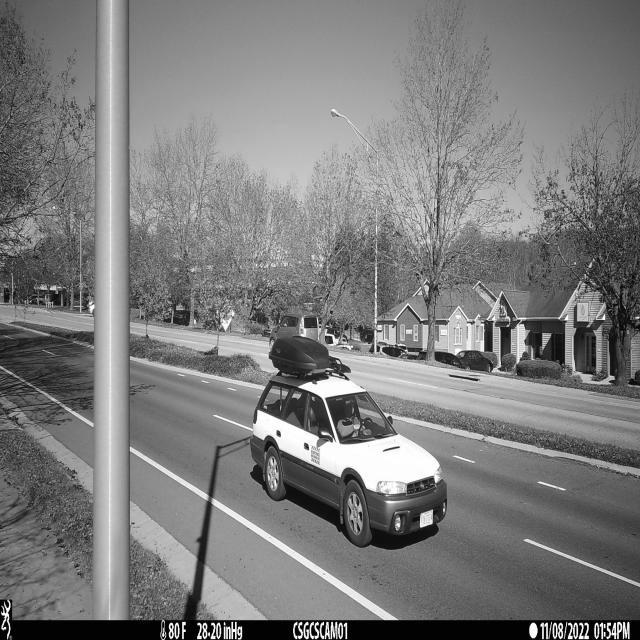SUV: (250, 335, 448, 549)
